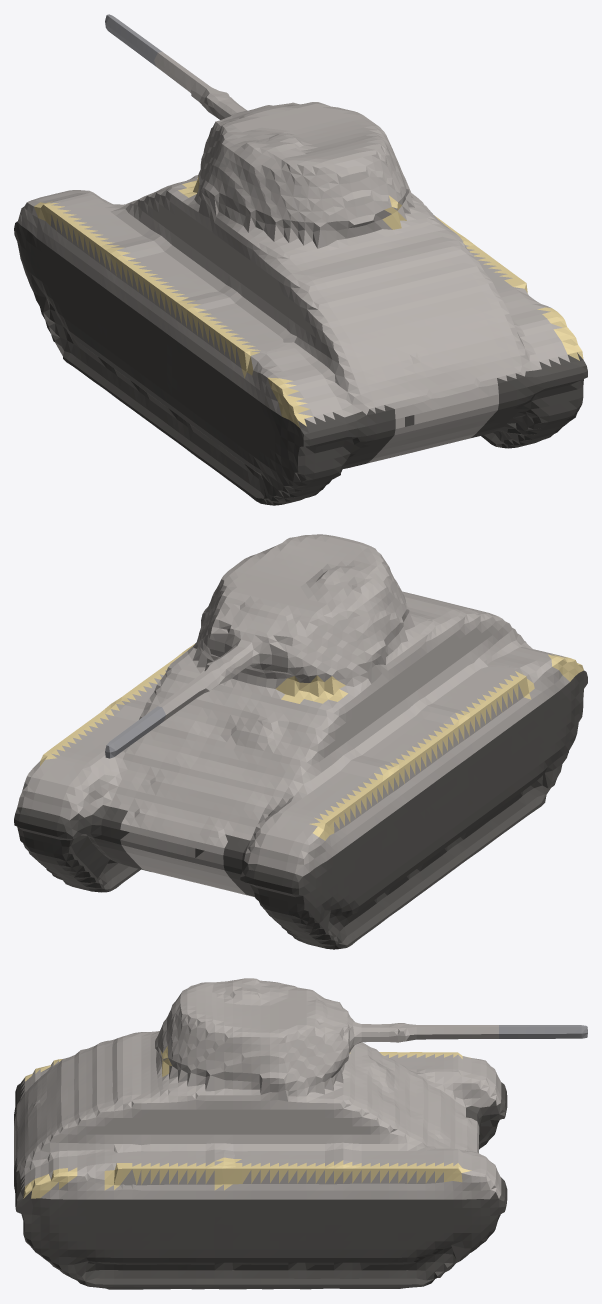
Rendered from unit_pavise.glb.
The picture shows the model from 3 angles, top to bottom: view 1: azimuth 30°, elevation 25°; view 2: azimuth 150°, elevation 25°; view 3: azimuth 270°, elevation 25°; orthographic projection. The views are drawn at different scales.
Parts seen in each view (by area): view 1: Mesh_0.039; view 2: Mesh_0.039; view 3: Mesh_0.039.
Part boxes in pixels (x1,y1,x2,y2): Mesh_0.039: (14, 14, 587, 505); Mesh_0.039: (14, 534, 587, 949); Mesh_0.039: (14, 978, 587, 1289).
Size of the model in its own units: 1.63 by 1.5 by 3.3.
